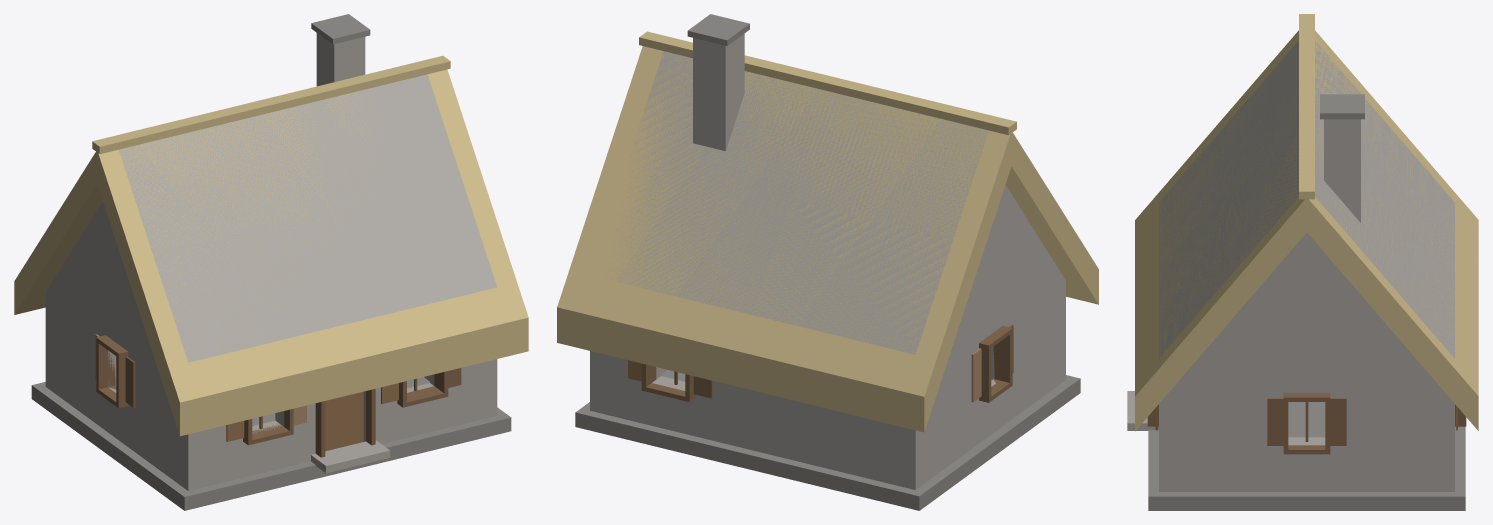
The model's file is House_Cottage.fbx.
3 renders of one model, left to right at view 1: azimuth 30°, elevation 25°; view 2: azimuth 150°, elevation 25°; view 3: azimuth 270°, elevation 25°, orthographic. The views are drawn at different scales.
Parts seen in each view (by area): view 1: House_Cottage; view 2: House_Cottage; view 3: House_Cottage.
Boxes of the visible parts, box(x1,y1,x2,y2) form: House_Cottage: box(14, 14, 528, 510); House_Cottage: box(557, 14, 1098, 510); House_Cottage: box(1127, 14, 1478, 510).
Size of the model in its own units: 7.95 by 6.65 by 7.68.
